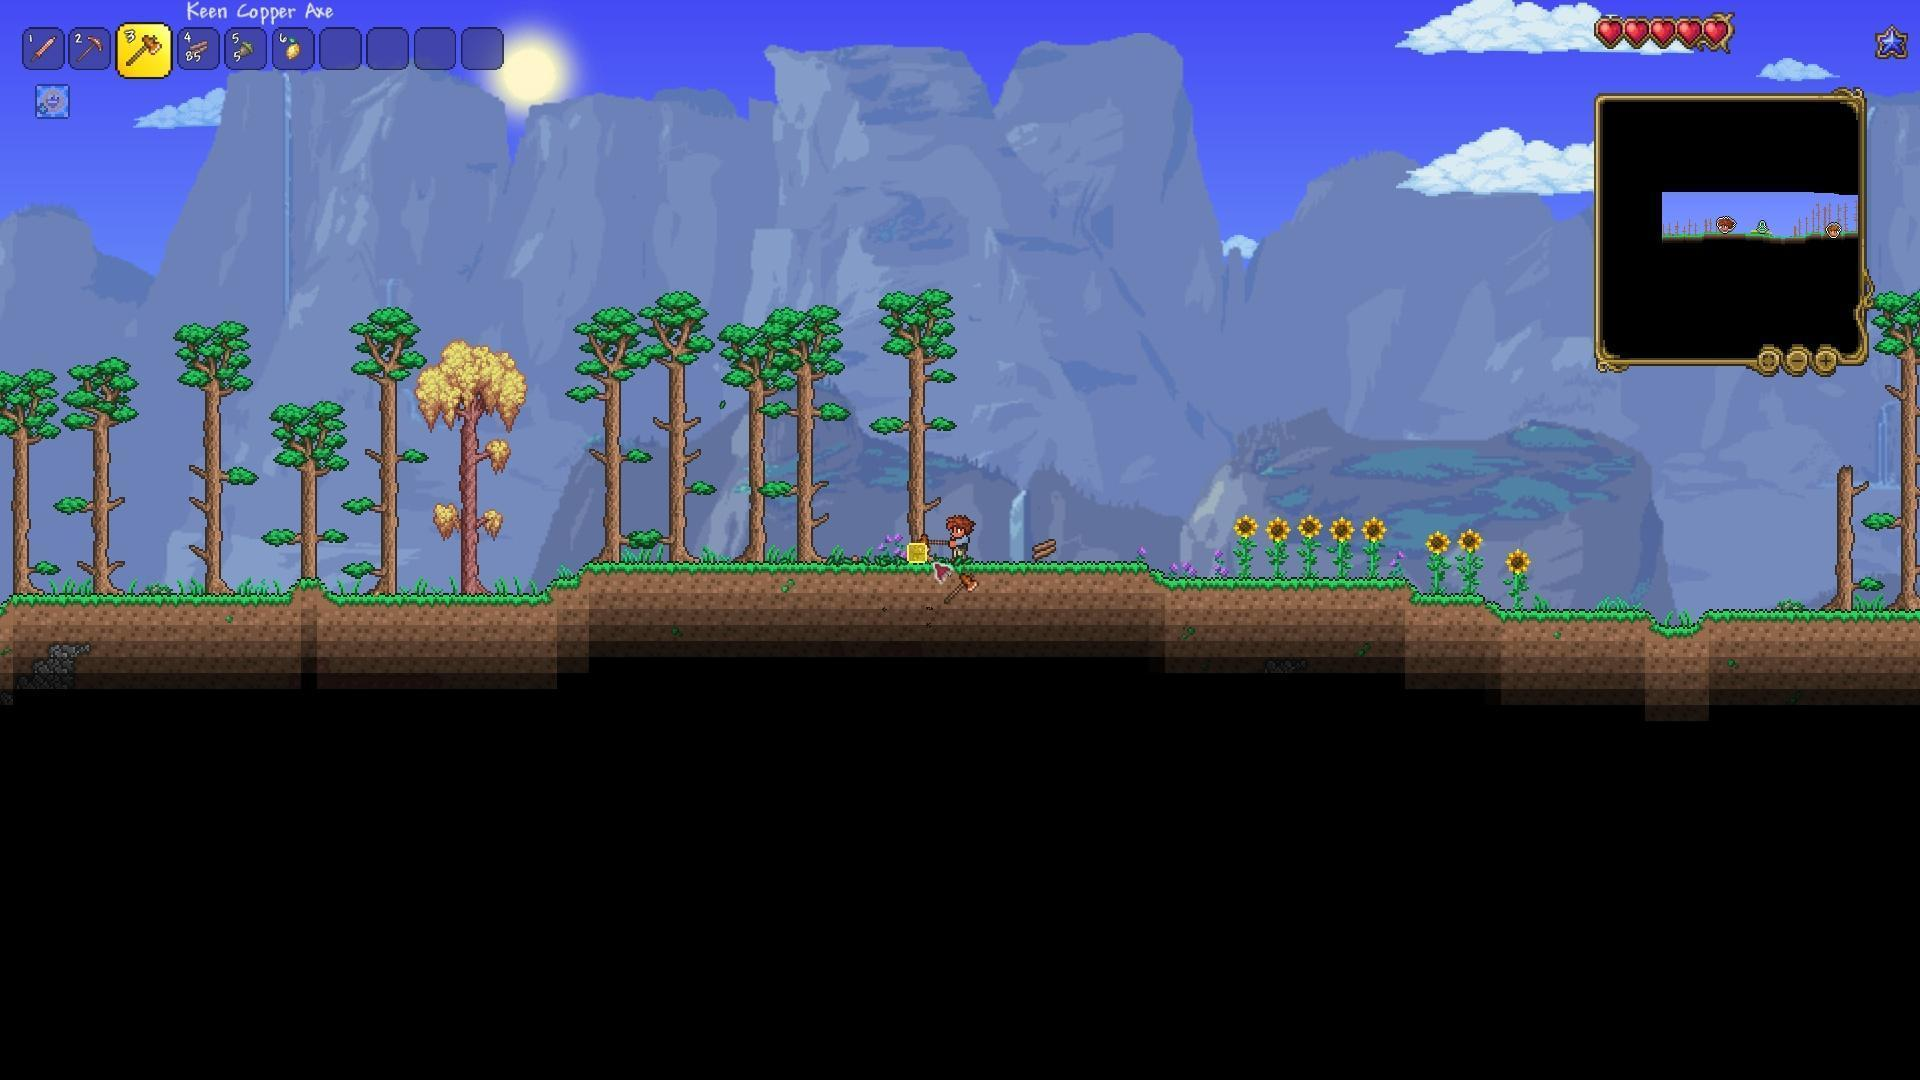wood: (1030, 537, 1062, 567), (185, 30, 215, 61)
